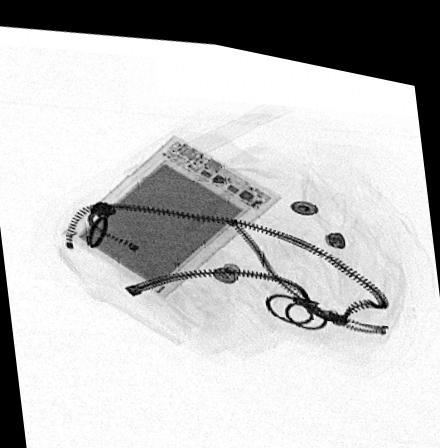Powerbank: (59, 126, 282, 291)
